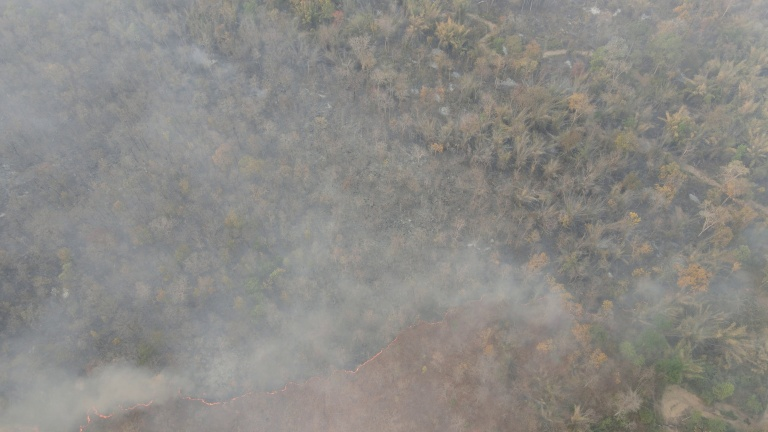fire: (275, 312, 440, 401), (70, 387, 267, 432)
smoke: (4, 1, 598, 432), (603, 219, 768, 351)
